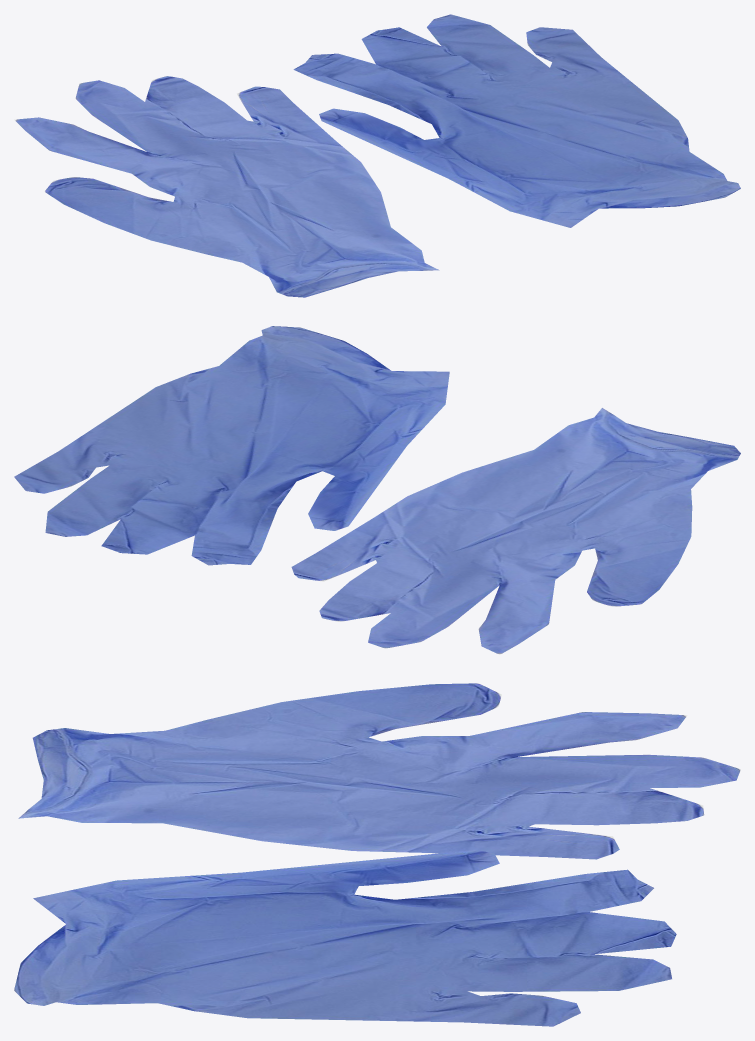
Rendered from glove.FBX.
The picture shows the model from 3 angles, top to bottom: view 1: azimuth 30°, elevation 25°; view 2: azimuth 150°, elevation 25°; view 3: azimuth 270°, elevation 25°; orthographic projection. The views are drawn at different scales.
Parts seen in each view (by area): view 1: Glove 2, Glove 1; view 2: Glove 2, Glove 1; view 3: Glove 2, Glove 1.
Boxes of the visible parts, x1,y1,x2,y2 form: Glove 2: [293, 14, 740, 227]; Glove 1: [14, 76, 439, 297]; Glove 2: [14, 326, 449, 565]; Glove 1: [291, 408, 740, 654]; Glove 2: [14, 850, 676, 1026]; Glove 1: [18, 683, 740, 859].
Size of what is drawn, in the model's own units: 18.24 by 0.1433 by 16.04.
1 material, 1 textured.
